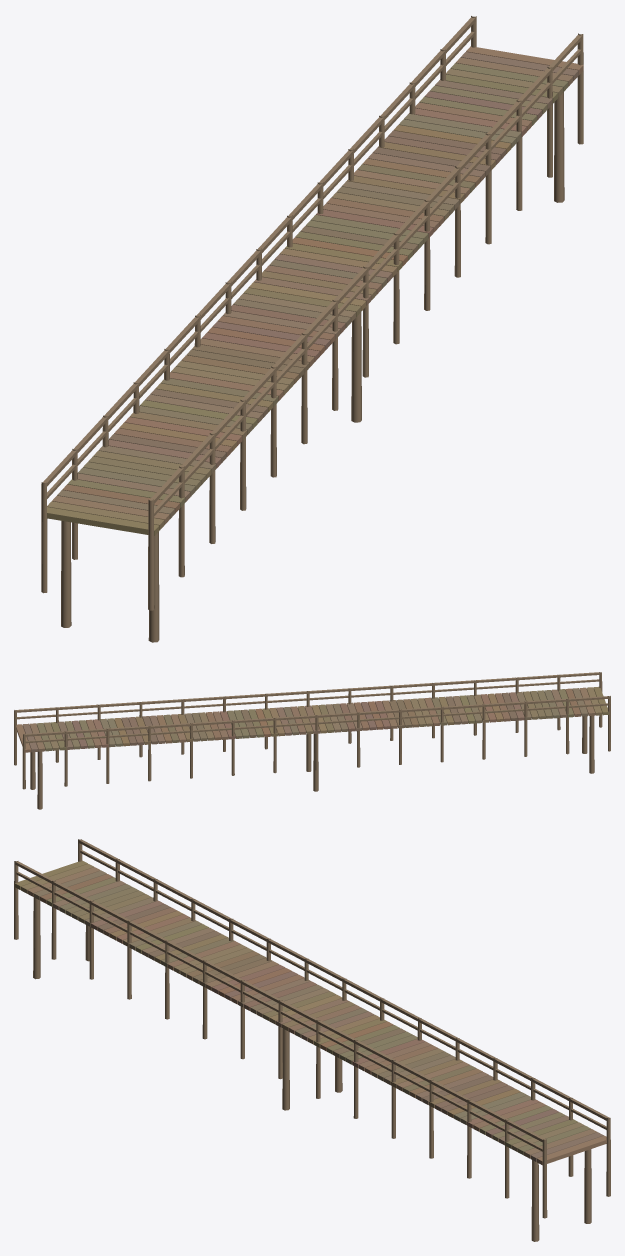
Rendered from struct_6_12.glb.
3 renders of one model, top to bottom at view 1: azimuth 30°, elevation 25°; view 2: azimuth 150°, elevation 25°; view 3: azimuth 270°, elevation 25°, orthographic. The views are drawn at different scales.
Visible parts, largest first — view 1: Landmarks; view 2: Landmarks; view 3: Landmarks.
Boxes of the visible parts, bbox=[...] form: Landmarks: bbox=[41, 16, 583, 642]; Landmarks: bbox=[14, 672, 610, 809]; Landmarks: bbox=[14, 839, 610, 1241].
Bounding box in the file's own units: 29.71 × 5.1 × 24.82.
